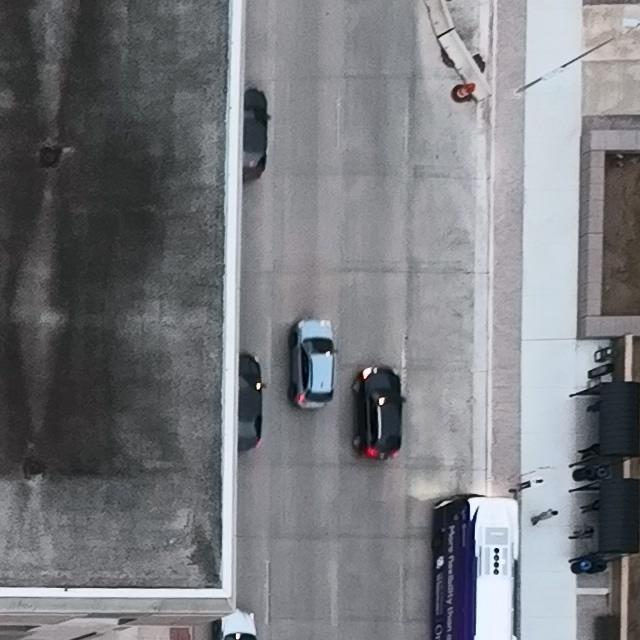car: (429, 493, 519, 640), (351, 364, 406, 459), (287, 318, 339, 410), (241, 89, 271, 181), (238, 353, 266, 451), (214, 613, 256, 640)
